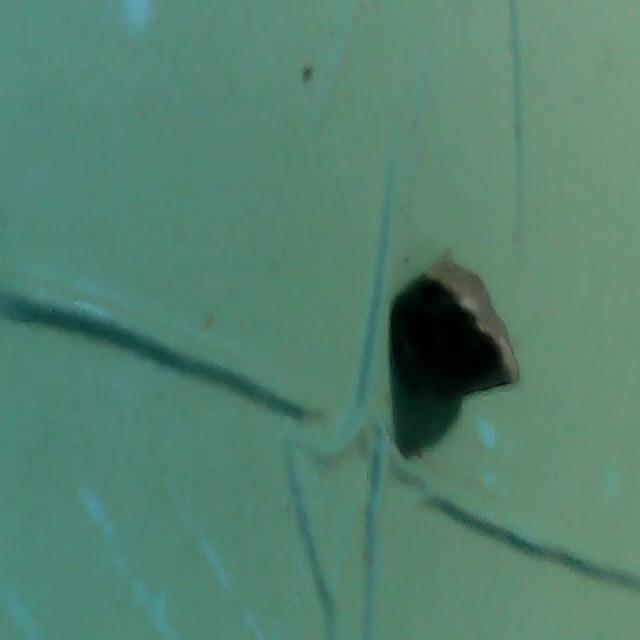rock: (386, 234, 525, 413)
